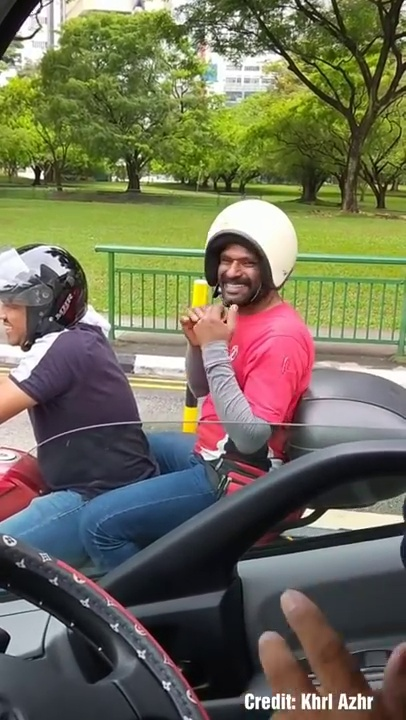helmet: (0, 235, 90, 348), (199, 197, 298, 291)
